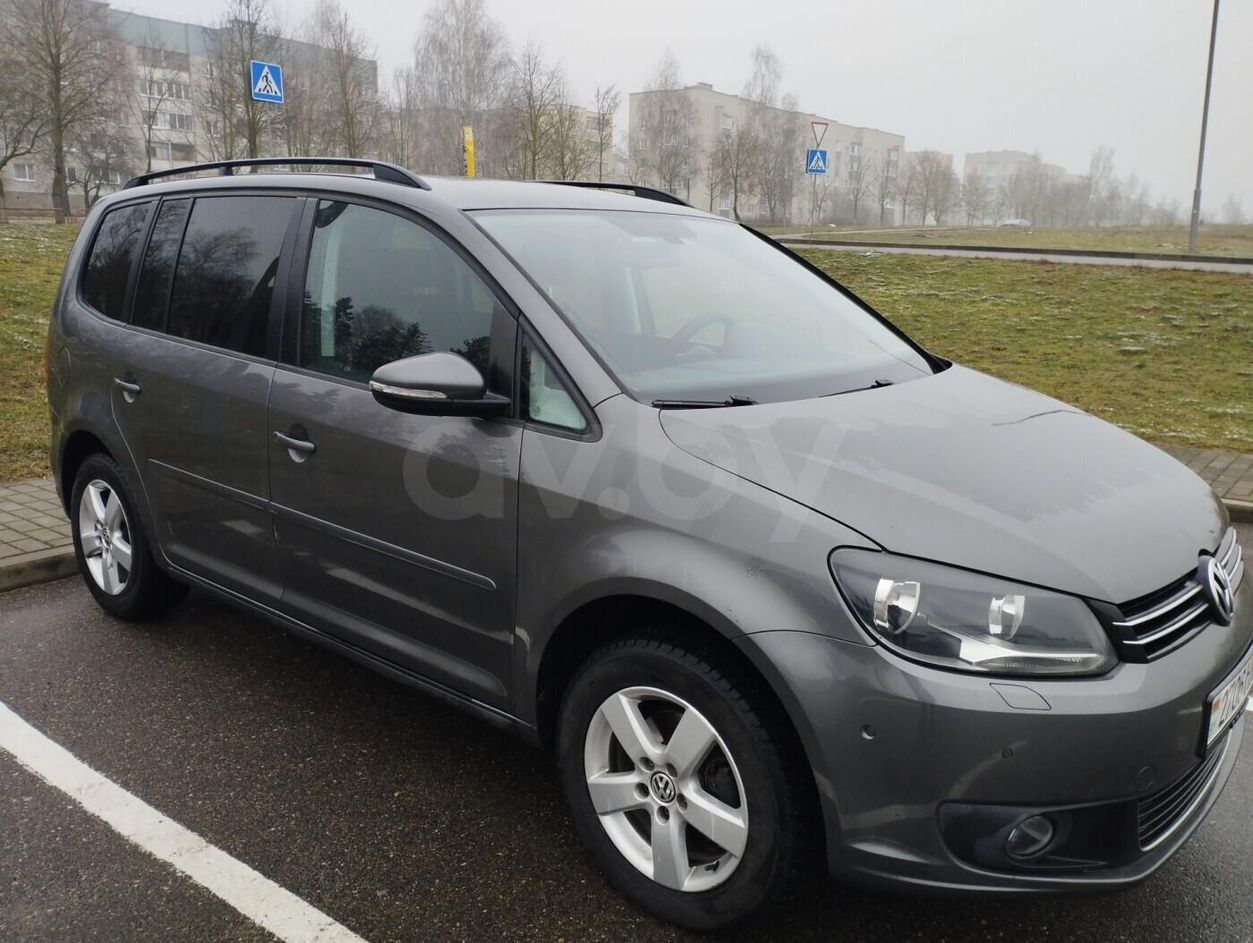Touran_2010-2015: (37, 158, 1253, 927)
